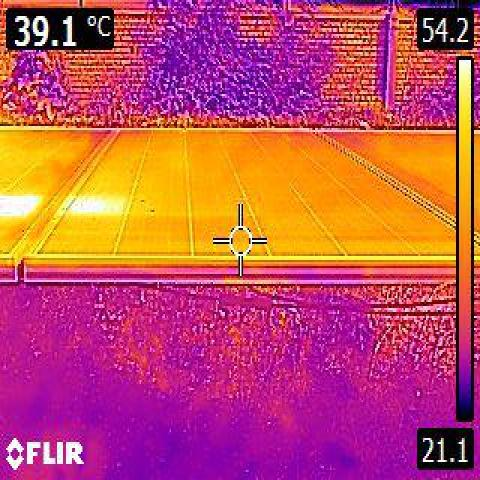fault: (0, 193, 41, 221), (66, 192, 110, 214)
